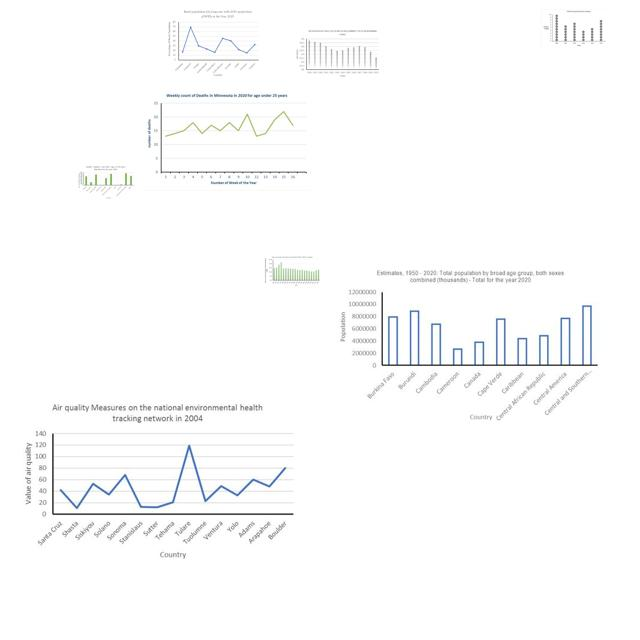Graph: (18, 399, 298, 561), (337, 266, 602, 423), (143, 90, 311, 191), (167, 9, 259, 77), (294, 28, 381, 78), (541, 9, 607, 48), (77, 165, 134, 199), (264, 255, 321, 287)
